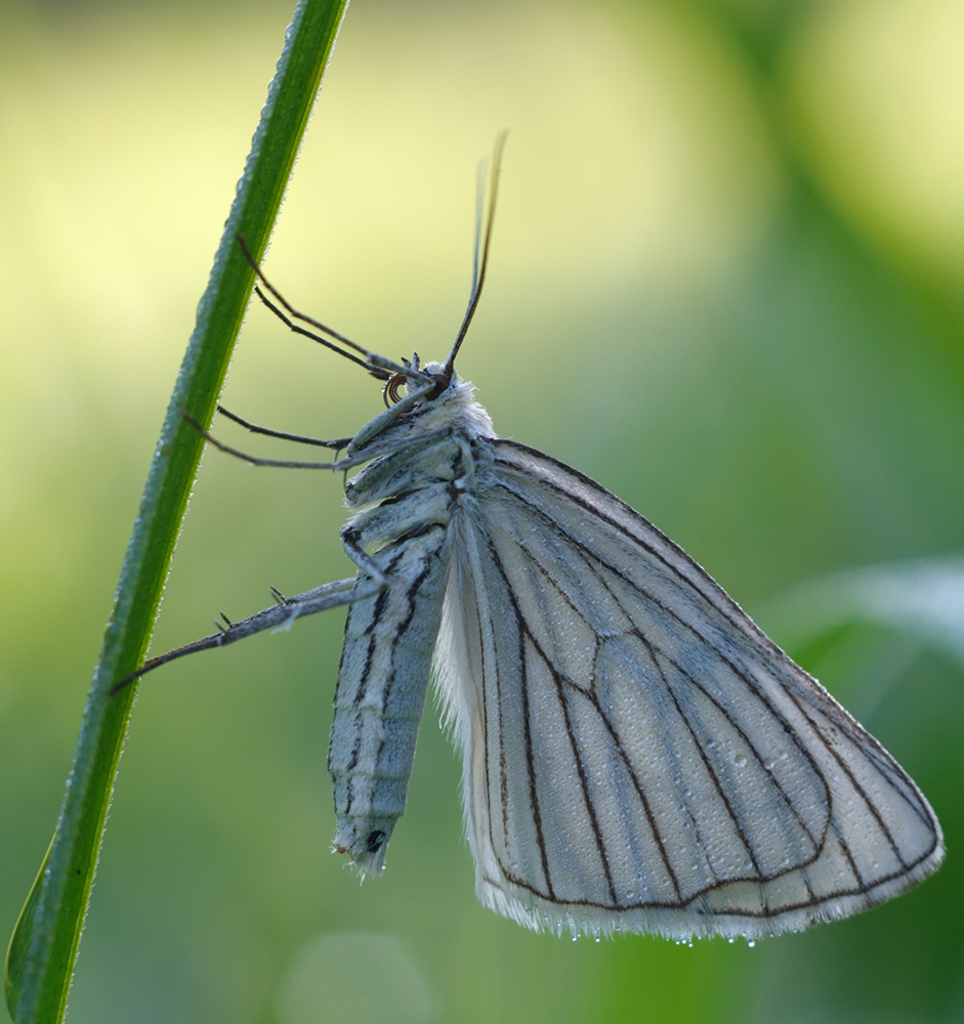Butterfly: (199, 233, 949, 963)
